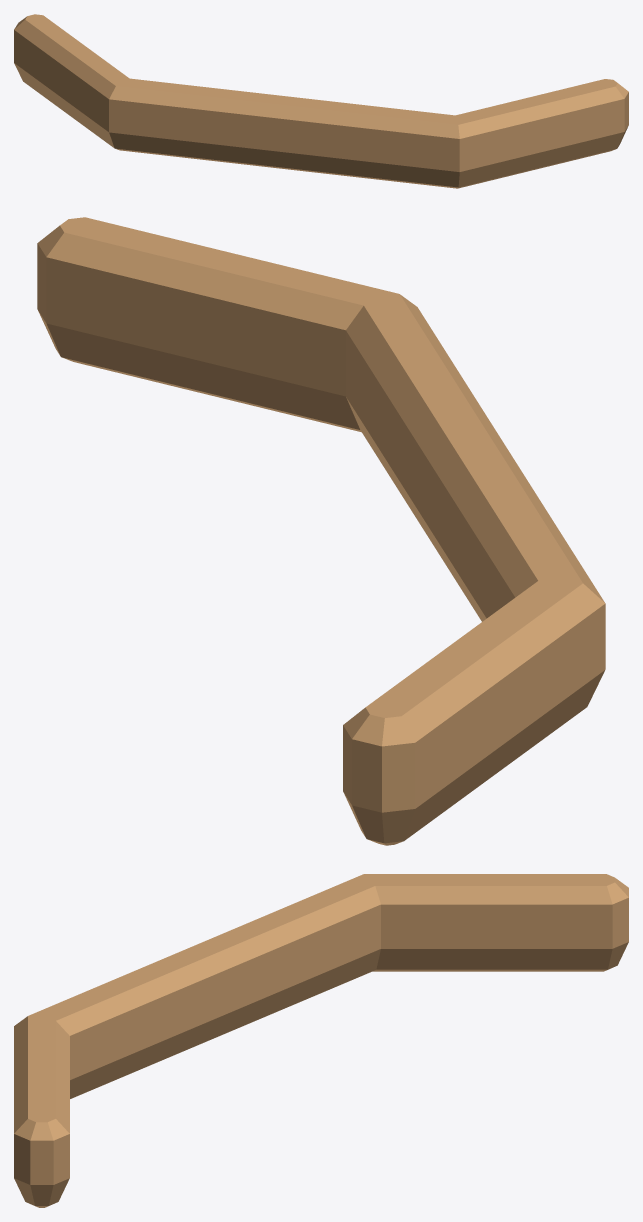
File: Balcony_Base_Curved_Large.fbx
3 views of the same model, one above another, from view 1: azimuth 30°, elevation 25°; view 2: azimuth 150°, elevation 25°; view 3: azimuth 270°, elevation 25° (orthographic). The views are drawn at different scales.
Parts seen in each view (by area): view 1: object1; view 2: object1; view 3: object1.
Part boxes in pixels (box(x1,y1,x2,y2)): object1: box(14, 14, 628, 188); object1: box(37, 217, 605, 845); object1: box(14, 874, 628, 1207).
Bounding box in the file's own units: 2.2 × 0.35 × 2.2.
